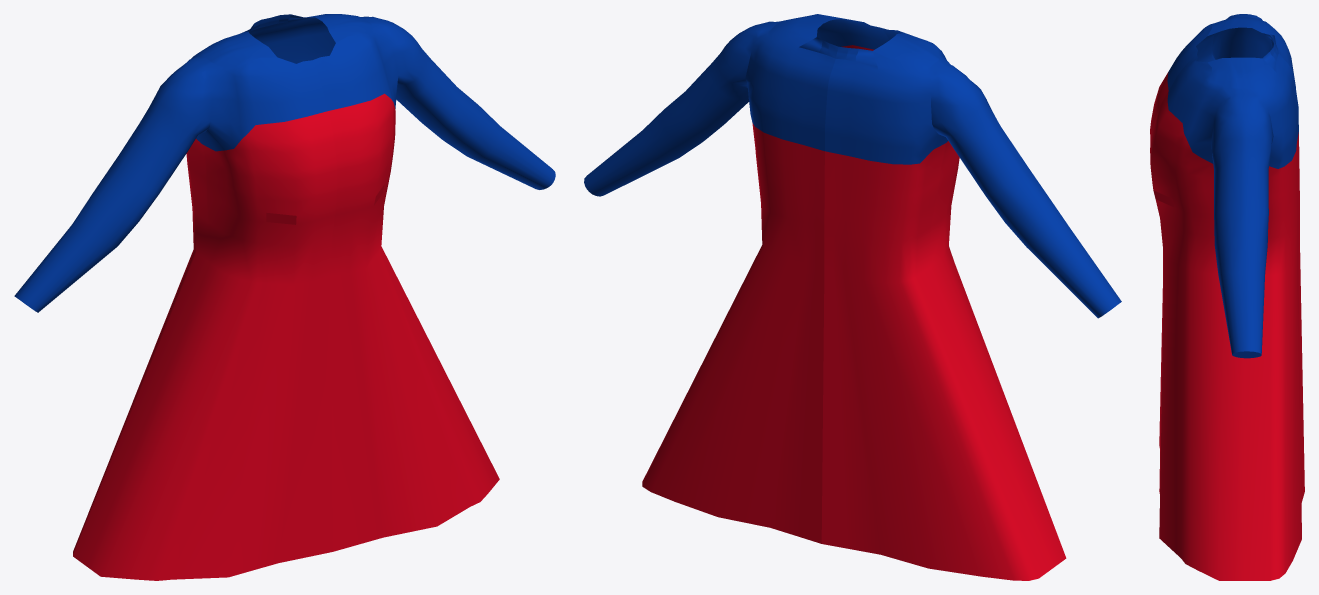
File: petitefille.fbx
The picture shows the model from 3 angles, left to right: view 1: azimuth 30°, elevation 25°; view 2: azimuth 150°, elevation 25°; view 3: azimuth 270°, elevation 25°; orthographic projection. The views are drawn at different scales.
Visible parts, largest first — view 1: polySurface8; view 2: polySurface8; view 3: polySurface8.
Part boxes in pixels (x1,y1,x2,y2): polySurface8: (14, 14, 555, 580); polySurface8: (584, 14, 1121, 580); polySurface8: (1150, 14, 1304, 580).
Size of the model in its own units: 20.33 by 17.81 by 5.57.
